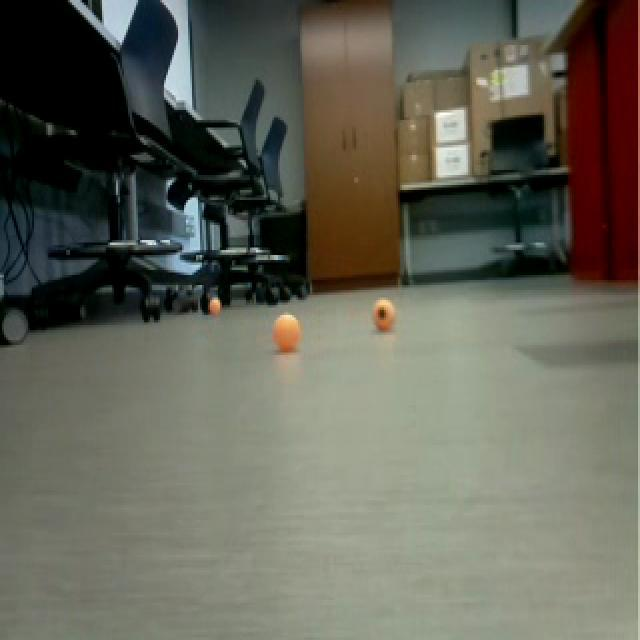oball: (268, 312, 305, 358), (207, 293, 223, 319)
